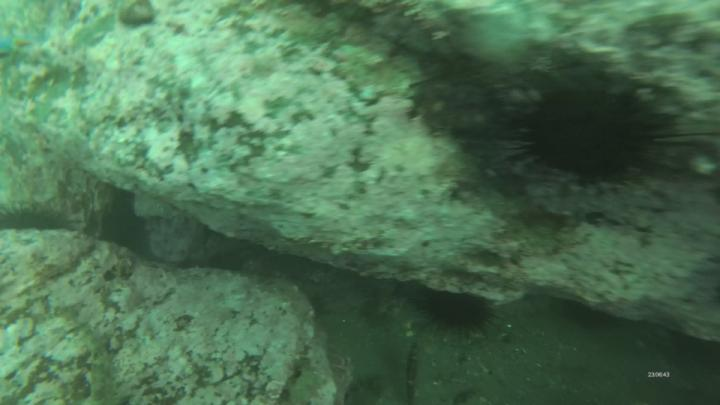echinus: (520, 78, 663, 188), (417, 285, 493, 340)
starfish: (1, 33, 43, 60)
